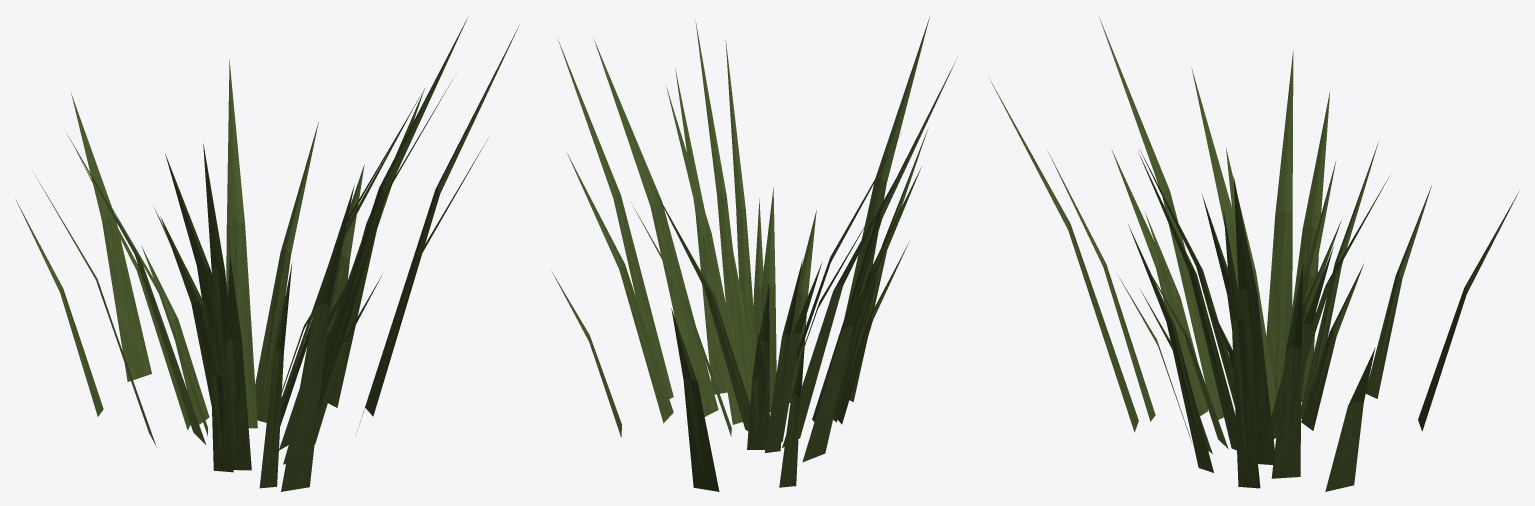
The model's file is GrassClump.fbx.
3 renders of one model, left to right at view 1: azimuth 30°, elevation 25°; view 2: azimuth 150°, elevation 25°; view 3: azimuth 270°, elevation 25°, orthographic. The views are drawn at different scales.
Parts seen in each view (by area): view 1: GrassClump; view 2: GrassClump; view 3: GrassClump.
Part boxes in pixels (x1=…): GrassClump: x1=15, y1=16, x2=519, y2=491; GrassClump: x1=552, y1=16, x2=955, y2=491; GrassClump: x1=988, y1=18, x2=1519, y2=491.
Bounding box in the file's own units: 36.15 × 31.12 × 41.62.
